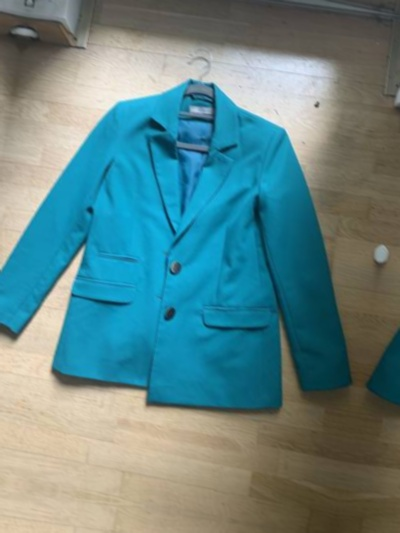Blazer: (0, 47, 400, 459), (352, 112, 400, 524), (0, 0, 12, 392)
